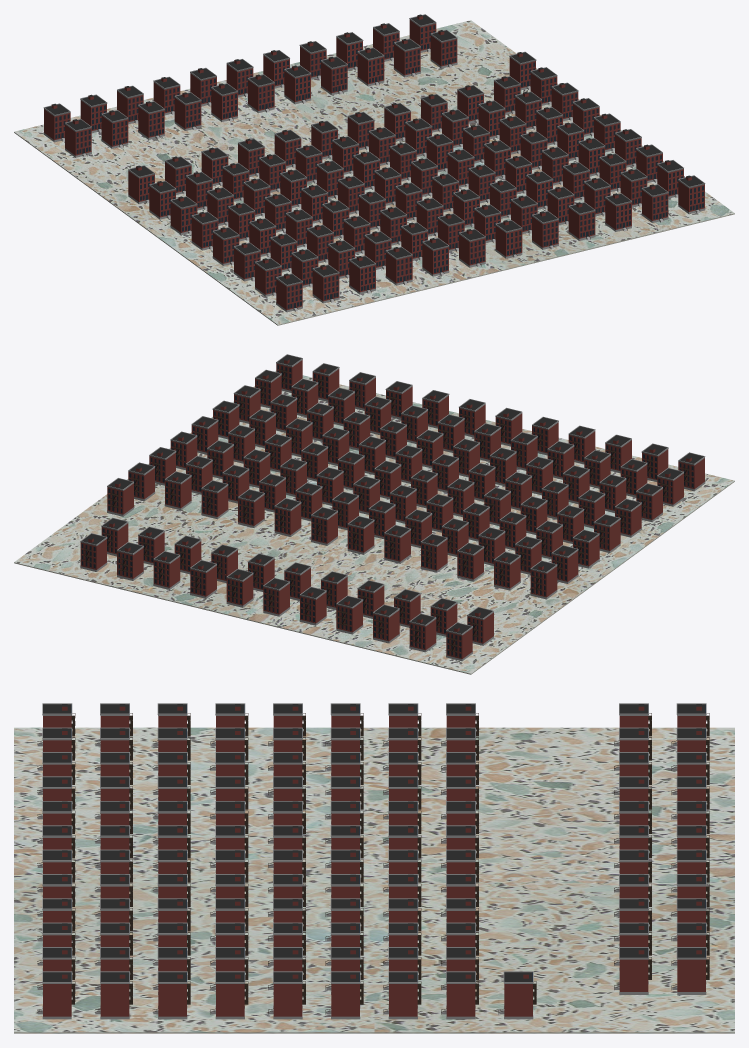
The model's file is stage1.FBX.
3 views of the same model, one above another, from view 1: azimuth 30°, elevation 25°; view 2: azimuth 150°, elevation 25°; view 3: azimuth 270°, elevation 25° (orthographic). The views are drawn at different scales.
Visible parts, largest first — view 1: Box001, urb_bui_1_lod022, urb_bui_1_lod130, urb_bui_1_lod106, urb_bui_1_lod140, urb_bui_1_lod046, urb_bui_1_lod080, urb_bui_1_lod056, urb_bui_1_lod082, urb_bui_1_lod104, urb_bui_1_lod116, urb_bui_1_lod021 (+108 smaller); view 2: Box001, urb_bui_1_lod037, urb_bui_1_lod085, urb_bui_1_lod141, urb_bui_1_lod145, urb_bui_1_lod057, urb_bui_1_lod061, urb_bui_1_lod081, urb_bui_1_lod033, urb_bui_1_lod105, urb_bui_1_lod117, urb_bui_1_lod109 (+108 smaller); view 3: Box001, urb_bui_1_lod015, urb_bui_1_lod018, urb_bui_1_lod010, urb_bui_1_lod016, urb_bui_1_lod013, urb_bui_1_lod017, urb_bui_1_lod019, urb_bui_1_lod020, urb_bui_1_lod021, urb_bui_1_lod033, urb_bui_1_lod022 (+108 smaller).
Part boxes in pixels (x1,y1,x2,y2): Box001: (14,20,734,325); urb_bui_1_lod022: (430,29,457,68); urb_bui_1_lod130: (101,110,128,148); urb_bui_1_lod106: (174,92,201,130); urb_bui_1_lod140: (312,264,339,303); urb_bui_1_lod046: (357,47,384,86); urb_bui_1_lod080: (495,220,522,258); urb_bui_1_lod056: (568,202,595,240); urb_bui_1_lod082: (247,74,274,113); urb_bui_1_lod104: (422,237,449,276); urb_bui_1_lod116: (385,246,412,285); urb_bui_1_lod021: (678,175,705,214); Box001: (14,370,734,674); urb_bui_1_lod037: (201,480,228,519); urb_bui_1_lod085: (347,516,374,554); urb_bui_1_lod141: (409,613,436,652); urb_bui_1_lod145: (530,560,557,599); urb_bui_1_lod057: (153,551,180,589); urb_bui_1_lod061: (274,498,301,536); urb_bui_1_lod081: (226,569,253,607); urb_bui_1_lod033: (80,533,107,571); urb_bui_1_lod105: (299,586,326,625); urb_bui_1_lod117: (336,595,363,634); urb_bui_1_lod109: (420,534,447,572); Box001: (14,727,734,1033); urb_bui_1_lod015: (383,971,421,1019); urb_bui_1_lod018: (210,971,248,1019); urb_bui_1_lod010: (498,971,536,1019); urb_bui_1_lod016: (325,971,363,1019); urb_bui_1_lod013: (441,971,478,1019); urb_bui_1_lod017: (268,971,305,1019); urb_bui_1_lod019: (153,971,190,1019); urb_bui_1_lod020: (95,971,132,1019); urb_bui_1_lod021: (37,971,75,1019); urb_bui_1_lod033: (671,947,709,994); urb_bui_1_lod022: (614,947,651,994).
Size of what is drawn, in the model's own units: 20000 by 20000 by 1283.
2 materials, 2 textured.
